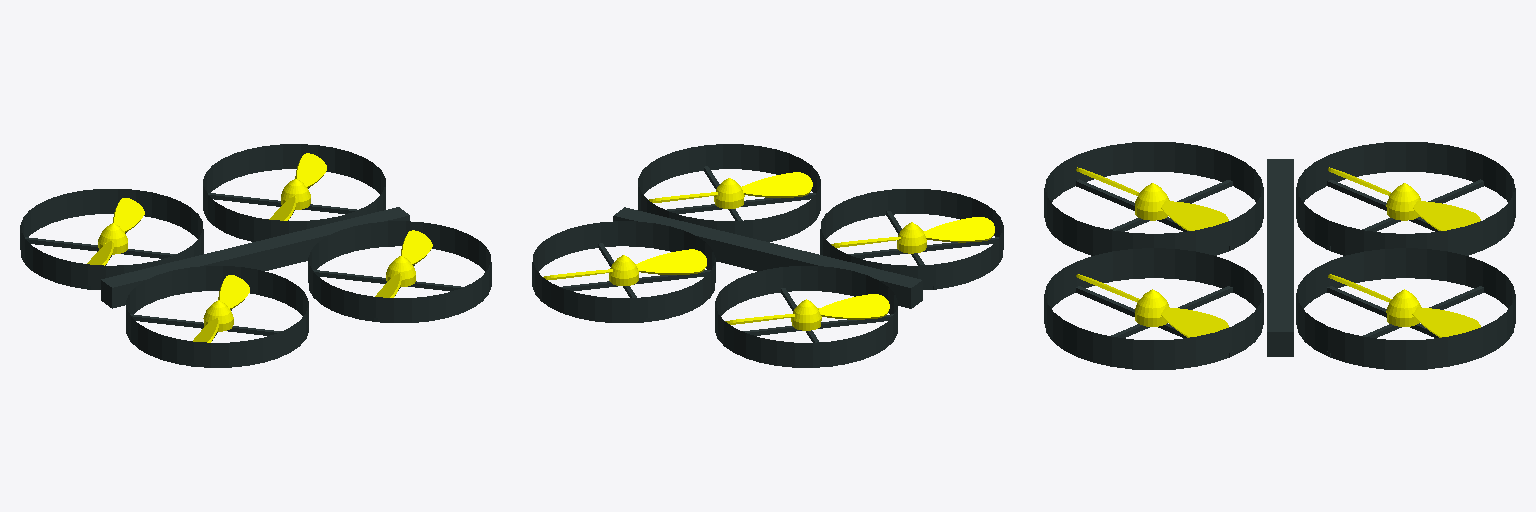
The robot description file, URDF, robot "UAV":
<?xml version="1.0"?>
<robot name="UAV">
    <link name="base_link">

        <visual>
            <origin xyz="0 0 0"/>
            <geometry>
                <mesh filename="package://vrep_ugv_simulation/robot_model/uav/body.stl"/>
            </geometry>
	    <material name="blue">
        	<color rgba="0.2 0.25 0.25 1.0"/>>
            </material>
        </visual>

        <visual>
            <origin xyz="0.0919 0.0919 0.0"/>
            <geometry>
                <mesh filename="package://vrep_ugv_simulation/robot_model/uav/front_left_ring.stl"/>
            </geometry>
	    <material name="blue">
        	<color rgba="0.2 0.25 0.25 1.0"/>
            </material>
        </visual>


        <visual>
            <origin xyz="0.0919 -0.0919 0.0"/>
            <geometry>
                <mesh filename="package://vrep_ugv_simulation/robot_model/uav/front_left_ring.stl"/>
            </geometry>
	    <material name="blue">
        	<color rgba="0.2 0.25 0.25 1.0"/>>
            </material>
        </visual>


        <visual>
            <origin xyz="-0.0919 0.0919 0.0"/>
            <geometry>
                <mesh filename="package://vrep_ugv_simulation/robot_model/uav/front_left_ring.stl"/>
            </geometry>
	    <material name="blue">
        	<color rgba="0.2 0.25 0.25 1.0"/>
            </material>
        </visual>


        <visual>
            <origin xyz="-0.0919 -0.0919 0.0"/>
            <geometry>
                <mesh filename="package://vrep_ugv_simulation/robot_model/uav/front_left_ring.stl"/>
            </geometry>
	    <material name="blue">
        	<color rgba="0.2 0.25 0.25 1.0"/>
            </material>
        </visual>

        
    </link>
<!--
    <link name="front_left_ring">
        <visual>
            <origin xyz="0.0919 0.0919 -0.01"/>
            <geometry>
                <mesh filename="[local-path]/Desktop/uav_urdf/front_left_ring.stl"/>
            </geometry>
        </visual>
    </link>
    <link name="front_right_ring">
        <visual>
            <origin xyz="0.0919 -0.0919 -0.01"/>
            <geometry>
                <mesh filename="[local-path]/Desktop/uav_urdf/front_left_ring.stl"/>
            </geometry>
        </visual>
    </link>
    <link name="rear_left_ring">
        <visual>
            <origin xyz="-0.0919 0.0919 -0.01"/>
            <geometry>
                <mesh filename="[local-path]/Desktop/uav_urdf/front_left_ring.stl"/>
            </geometry>
        </visual>
    </link>
    <link name="rear_right_ring">
        <visual>
            <origin xyz="-0.0919 -0.0919 -0.01"/>
            <geometry>
                <mesh filename="[local-path]/Desktop/uav_urdf/front_left_ring.stl"/>
            </geometry>
        </visual>
    </link>
-->
    <joint name="front_left_propeller_j" type="continuous">
        <parent link="base_link"/>
        <child link="front_left_propeller"/>
        <origin xyz="0.0919 0.0919 0.017"/>
        <axis xyz="0 0 1"/>
    </joint>

    <joint name="front_right_propeller_j" type="continuous">
        <parent link="base_link"/>
        <child link="front_right_propeller"/>
        <origin xyz="0.0919 -0.0919 0.017"/>
        <axis xyz="0 0 1"/>
    </joint>

    <joint name="rear_left_propeller_j" type="continuous">
        <parent link="base_link"/>
        <child link="rear_left_propeller"/>
        <origin xyz="-0.0919 0.0919 0.017"/>
        <axis xyz="0 0 1"/>
    </joint>

    <joint name="rear_right_propeller_j" type="continuous">
        <parent link="base_link"/>
        <child link="rear_right_propeller"/>
        <origin xyz="-0.0919 -0.0919 0.017"/>
        <axis xyz="0 0 1"/>
    </joint>

    <link name="front_left_propeller">
        <visual>
            <origin xyz="0 0 -0.015"/>
            <geometry>
                <mesh filename="package://vrep_ugv_simulation/robot_model/uav/front_left_propeller.stl"/>
            </geometry>
      	    <material name="g">
        	<color rgba="255 255 0 1.0"/>
            </material>
        </visual>
    </link>

    <link name="front_right_propeller">
        <visual>
            <origin xyz="0 0 -0.015"/>
            <geometry>
                <mesh filename="package://vrep_ugv_simulation/robot_model/uav/front_left_propeller.stl"/>
            </geometry>
      	    <material name="g">
        	<color rgba="255 255 0 1.0"/>
            </material>
        </visual>
    </link>

    <link name="rear_left_propeller">
        <visual>
            <origin xyz="0 0 -0.015"/>
            <geometry>
                <mesh filename="package://vrep_ugv_simulation/robot_model/uav/front_left_propeller.stl"/>
            </geometry>
      	    <material name="g">
        	<color rgba="255 255 0 1.0"/>
            </material>
        </visual>
    </link>

    <link name="rear_right_propeller">
        <visual>
            <origin xyz="0 0 -0.015"/>
            <geometry>
                <mesh filename="package://vrep_ugv_simulation/robot_model/uav/front_left_propeller.stl"/>
            </geometry>
      	    <material name="g">
        	<color rgba="255 255 0 1.0"/>
            </material>
        </visual>
    </link>

  <link name="laser">
    	<visual>
      		<origin xyz="0.0 0.0 -0.018" rpy="1.5708 0.0 1.5708"/>
      		<geometry>
        	<mesh filename="package://vrep_ugv_simulation/robot_model/uav/hokuyo_utm30lx.stl" 
              		scale="0.0008 0.0008 0.0008"/>
      		</geometry>
      		<material name="red">
        	     <color rgba="0.4 0.2 0.2 1.0"/>
      		</material>
    	</visual>
  </link>
  	<joint name="laser_j" type="fixed">
    		<parent link="base_link"/>
    		<child link="laser"/>
    		<origin rpy="0 0 0" xyz="0 0 0.054"/>
  	</joint>


<!--
    <link name="left_track">
        <visual>
            <origin xyz="0 0 -0.0705" rpy="1.5707963267 0 1.5707963267" />
            <geometry>
                <mesh scale="-0.115 0.115 0.115"
                    filename="package://nifti_robot_driver/robot_model/bogie.dae"/>
            </geometry>
        </visual>
    </link>
    <joint name="left_track_j" type="revolute">
        <parent link="base_link"/>
        <child link="left_track"/>
        <origin xyz="0 0.1985 0"/>
        <axis xyz="0 1 0"/>
        <limit lower="-0.7" upper="0.7" effort="0" velocity="0" />
    </joint>


    <link name="right_track">
        <visual>
            <origin xyz="0 0 -0.0705" rpy="1.5707963267 0 1.5707963267" />
            <geometry>
                <mesh scale="0.115 0.115 0.115"
                    filename="package://nifti_robot_driver/robot_model/bogie.dae"/>
            </geometry>
        </visual>    
    </link>
    <joint name="right_track_j" type="revolute">
        <parent link="base_link"/>
        <child link="right_track"/>
        <origin xyz="0 -0.1985 0"/>
        <axis xyz="0 1 0"/>
        <limit lower="-0.7" upper="0.7" effort="0" velocity="0" />
    </joint>

    <link name="front_left_flipper">
        <visual>
            <origin xyz="0 0 0" rpy="3.3 0 1.5707963267" />
            <geometry>
                <mesh scale="0.115 0.115 0.115"
                    filename="package://nifti_robot_driver/robot_model/flipper.dae"/>
            </geometry>
        </visual>
    </link>
    <joint name="front_left_flipper_j" type="continuous">
        <parent link="left_track"/>
        <child link="front_left_flipper"/>
        <origin xyz="0.25 0.0735 0.0195" rpy="0 0.1937 0"/>
        <axis xyz="0 1 0"/>
    </joint>

    <link name="front_right_flipper">
        <visual>
            <origin xyz="0 0 0" rpy="3.3 0 1.5707963267" />
            <geometry>
                <mesh scale="-0.115 0.115 0.115"
                    filename="package://nifti_robot_driver/robot_model/flipper.dae"/>
            </geometry>
        </visual>  
    </link>
    <joint name="front_right_flipper_j" type="continuous">
        <parent link="right_track"/>
        <child link="front_right_flipper"/>
        <origin xyz="0.25 -0.0735 0.0195" rpy="0 0.1937 0"/>
        <axis xyz="0 1 0"/>
    </joint>

    <link name="rear_left_flipper">
        <visual>
            <origin xyz="0 0 0" rpy="-2.95 0 1.5707963267" />
            <geometry>
                <mesh scale="0.115 0.115 0.115"
                    filename="package://nifti_robot_driver/robot_model/flipper.dae"/>
            </geometry>
        </visual>
    </link>
    <joint name="rear_left_flipper_j" type="continuous">
        <parent link="left_track"/>
        <child link="rear_left_flipper"/>
        <origin xyz="-0.25 0.0735 0.0195" rpy="0 2.9479 0"/>
        <axis xyz="0 1 0"/>
    </joint>

    <link name="rear_right_flipper">
        <visual>
            <origin xyz="0 0 0" rpy="-2.95 0 1.5707963267" />
            <geometry>
                <mesh scale="-0.115 0.115 0.115"
                    filename="package://nifti_robot_driver/robot_model/flipper.dae"/>
            </geometry>
        </visual>
    </link>
    <joint name="rear_right_flipper_j" type="continuous">
        <parent link="right_track"/>
        <child link="rear_right_flipper"/>
        <origin xyz="-0.25 -0.0735 0.0195" rpy="0 2.9479 0"/>
        <axis xyz="0 1 0"/>
    </joint>

    <link name="laser">
        <visual>
            <origin xyz="0 0 0" rpy="1.5707963267 0 -1.5707963267" />
            <geometry>
                <mesh scale="0.001 0.001 0.001"
                    filename="package://nifti_robot_driver/robot_model/laser.dae"/>
            </geometry>
            <material name="laser_color">
                <color rgba="1 0.9 0.7 1"/>
            </material>
        </visual>  
    </link>
    <joint name="laser_j" type="revolute">
        <parent link="base_link"/>
        <child link="laser"/>
        <origin xyz="0.2502 0.0 0.1427" rpy="3.1415927 0 0"/>
        <axis xyz="1 0 0"/>
        <limit lower="-2.3561945" upper="2.3561945" effort="0" velocity="0" />
    </joint>

    <link name="imu"/>
    <joint name="imu_j" type="fixed">
        <parent link="base_link"/>
        <child link="imu"/>
        <origin xyz="0 0 0.1694" rpy="0 0 -1.5707963267"/>
    </joint>

    <link name="omnicam">
        <visual>
            <origin xyz="-0.070 0.068 -0.3412" rpy="1.5707963267 0 0" />
            <geometry>
                <mesh scale="0.115 0.115 0.115"
                    filename="package://nifti_robot_driver/robot_model/omnicam.stl"/>
            </geometry>
            <material name="omnicam_color">
                <color rgba="0 0 0 1"/>
            </material>
        </visual>  
    </link>
  <joint name="omnicam_j" type="fixed">
    <parent link="rear_right_box"/>
    <child link="omnicam"/>
    <origin rpy="0 0 -0.6283185307179586" xyz="0.36 0.07 0.135"/>
  </joint>

  <link name="rear_right_box"/>
  <joint name="rear_right_box_j" type="fixed">
    <parent link="base_link"/>
    <child link="rear_right_box"/>
    <origin rpy="0 0 0" xyz="-0.379 -0.1265 0.185"/>
  </joint>
-->

</robot>

--- What the picture shows (computed from the rendered views, not written in the file) ---
3 views of the same robot in one strip: view 1: azimuth 30°, elevation 25°; view 2: azimuth 150°, elevation 25°; view 3: azimuth 270°, elevation 25° (orthographic).
Robot: UAV — 6 links, 5 joints (4 continuous, 1 fixed); root link base_link; default pose: every joint at zero.
Visible links, largest first — view 1: base_link, front_left_propeller, front_right_propeller, rear_right_propeller, rear_left_propeller; view 2: base_link, front_right_propeller, rear_left_propeller, rear_right_propeller, front_left_propeller; view 3: base_link, front_left_propeller, rear_right_propeller, rear_left_propeller, front_right_propeller.
Boxes of the visible links, x1=… form: base_link: x1=20, y1=144, x2=491, y2=367; front_left_propeller: x1=269, y1=153, x2=326, y2=220; front_right_propeller: x1=375, y1=230, x2=432, y2=297; rear_right_propeller: x1=193, y1=275, x2=249, y2=342; rear_left_propeller: x1=87, y1=198, x2=144, y2=265; base_link: x1=532, y1=144, x2=1003, y2=367; front_right_propeller: x1=649, y1=172, x2=812, y2=208; rear_left_propeller: x1=725, y1=294, x2=889, y2=330; rear_right_propeller: x1=831, y1=217, x2=994, y2=253; front_left_propeller: x1=543, y1=249, x2=706, y2=285; base_link: x1=1044, y1=142, x2=1515, y2=369; front_left_propeller: x1=1328, y1=274, x2=1480, y2=337; rear_right_propeller: x1=1076, y1=167, x2=1228, y2=230; rear_left_propeller: x1=1328, y1=167, x2=1480, y2=230; front_right_propeller: x1=1076, y1=274, x2=1228, y2=337.
Bounding box of the posed robot: 0.3438 × 0.3438 × 0.0284 m (x, y, z).
9 mesh visuals loaded from 4 distinct referenced files (3 binary STL); not drawn: 1 (reference not matched to a file when rendering).